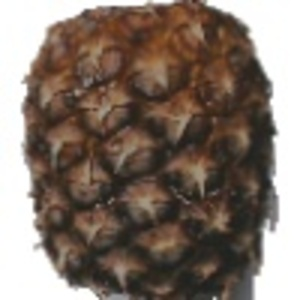abacaxi: (13, 2, 281, 298)
